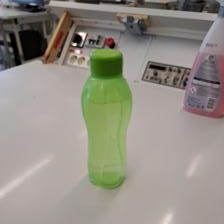bottle: (80, 46, 134, 188)
